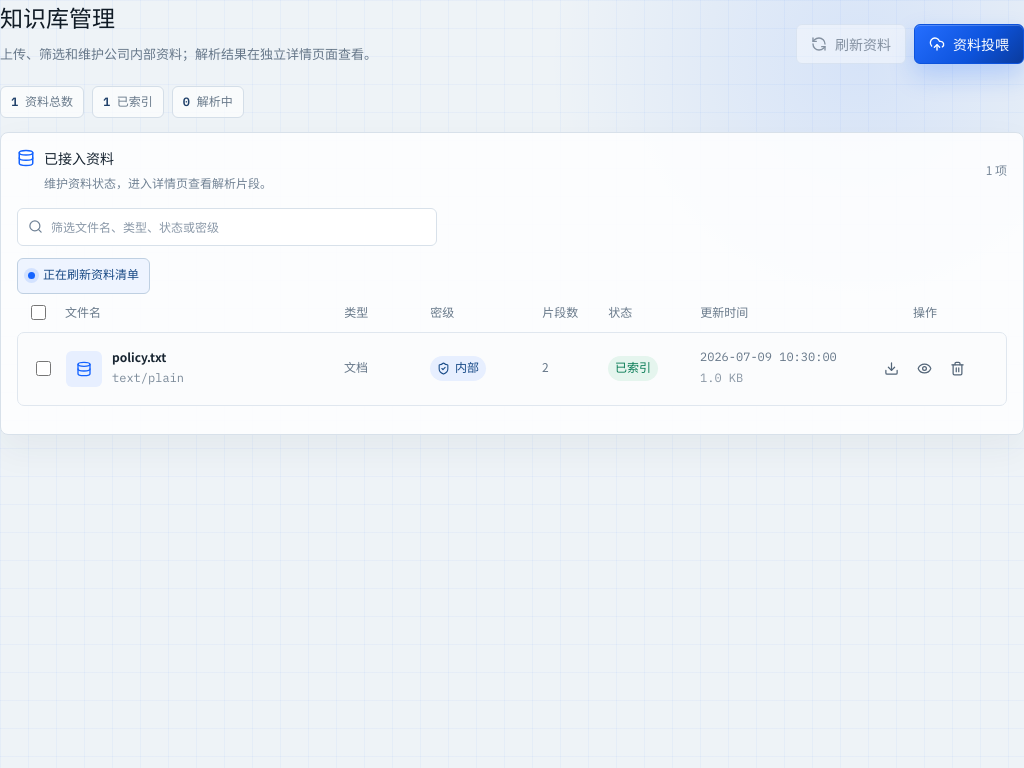
KnowledgeManagementPage › shows source loading and upload indexing states
This screenshot has width=1024, height=768.
Step 1. Click the button with test id "open-knowledge-upload" → click(969, 44), box [914, 24, 1023, 64]
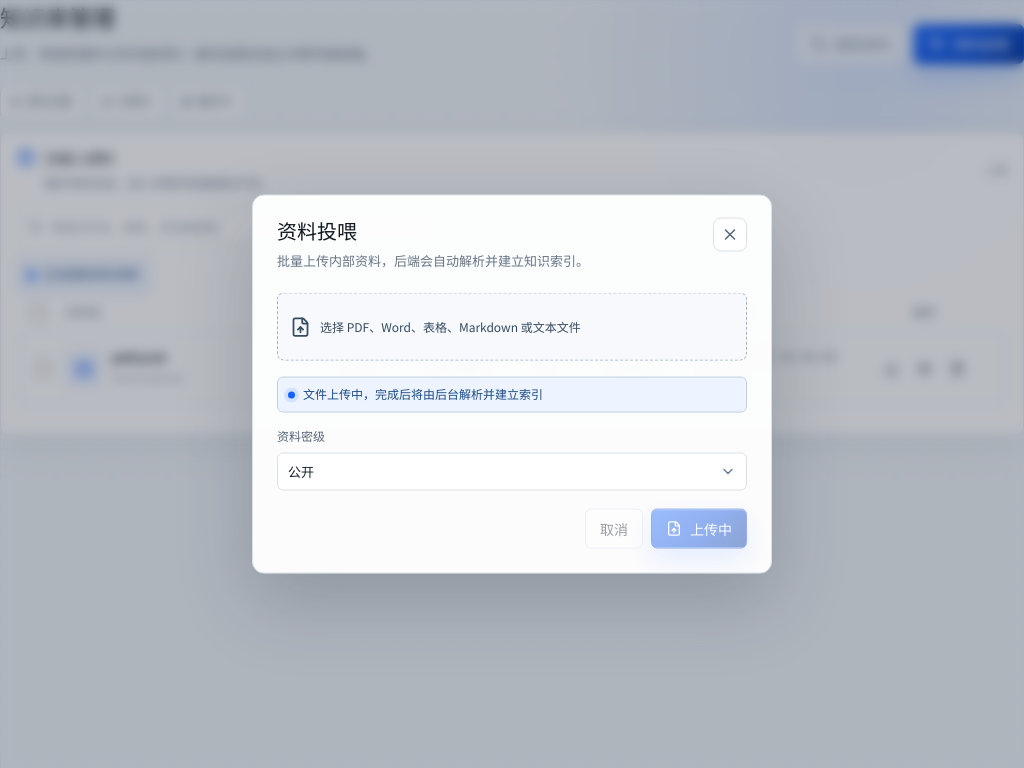
Expected: the text "正在刷新资料清单" is shown, [17, 258, 150, 294]
Expected: the text "文件上传中，完成后将由后台解析并建立索引" is shown, [277, 377, 747, 413]
